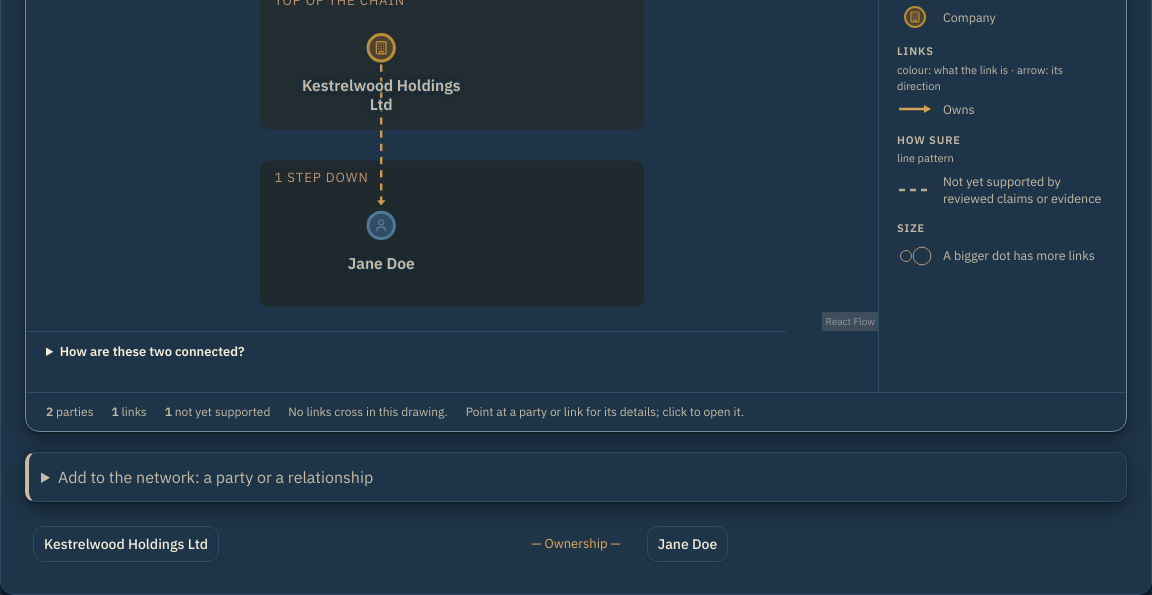
Test case: RelationshipGraphPanel › attaches pool evidence to the opened relationship and keeps the graph's copy of the edge in step
The image size is (1152, 595).
(page scrolled)
Click the text "Ownership": (538, 544) [531, 536, 621, 552]
(page scrolled)
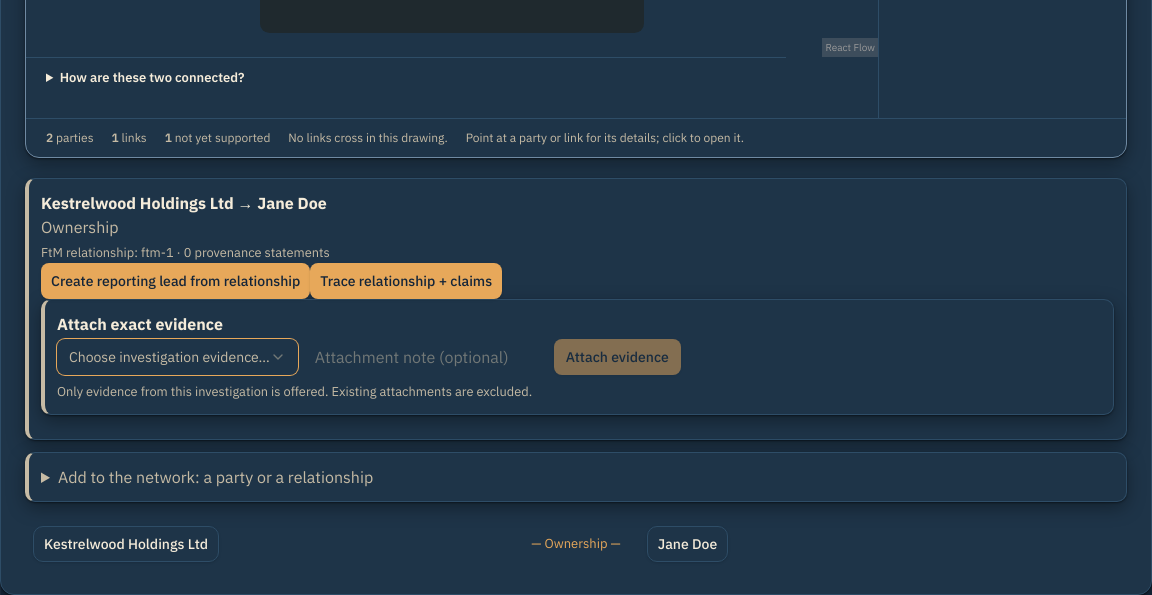
Now the text "Attach exact evidence" is shown, box [57, 314, 223, 334]
Now the button "Attach evidence" is disabled, box [554, 339, 681, 375]
Press Arrowdown
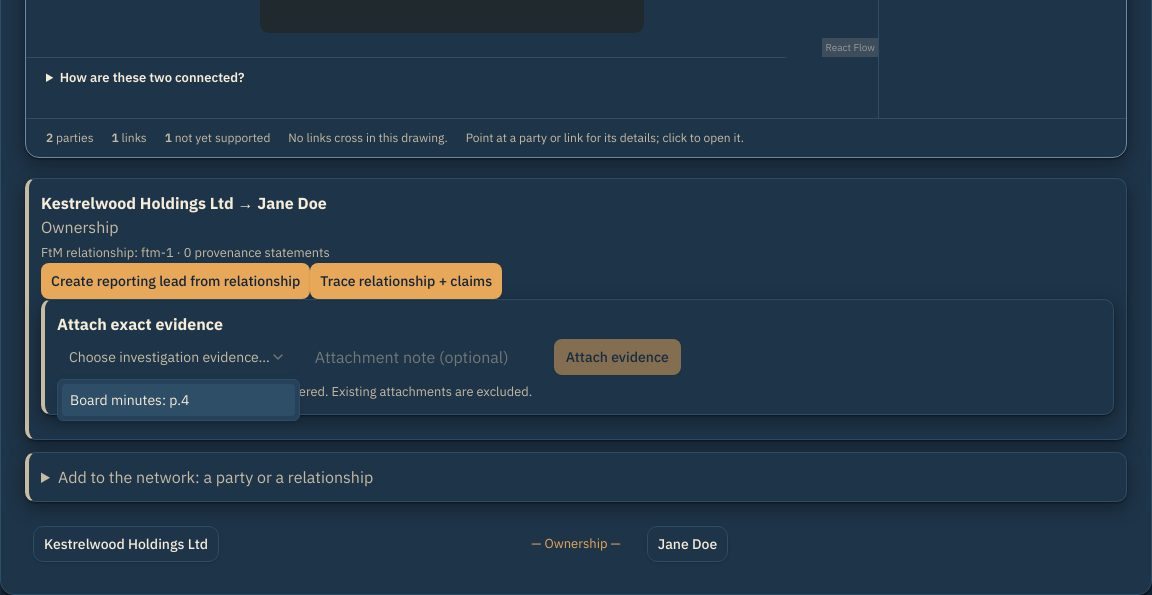
Click the option "Board minutes: p.4": (178, 400) [62, 384, 295, 416]
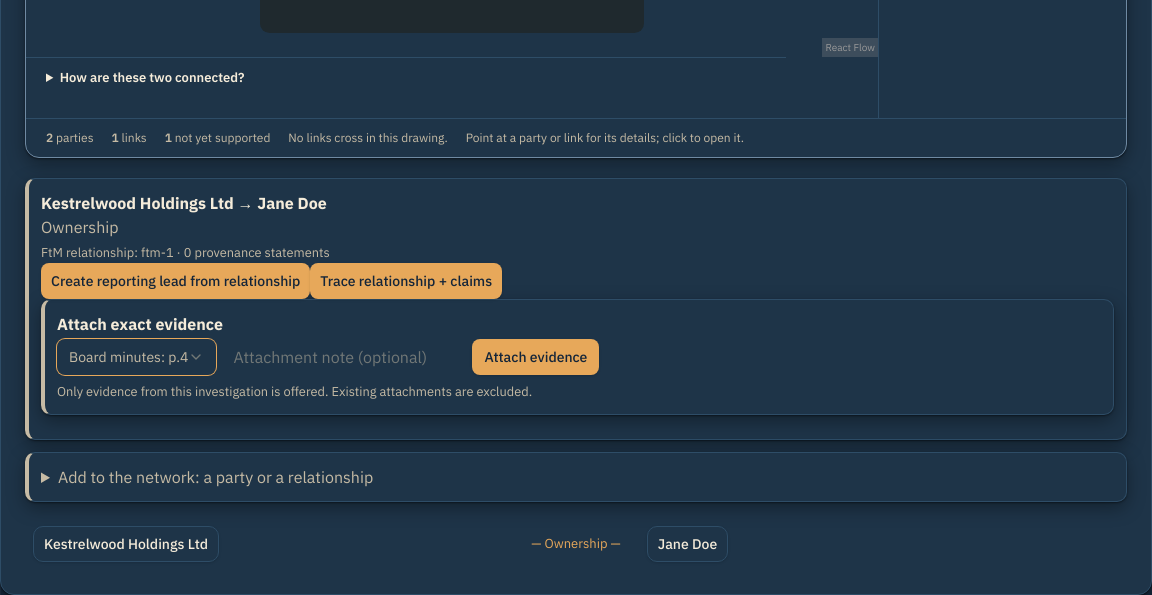
In the field with placeholder "Attachment note (optional)": (344, 357) [224, 336, 464, 378], type "signed copy"
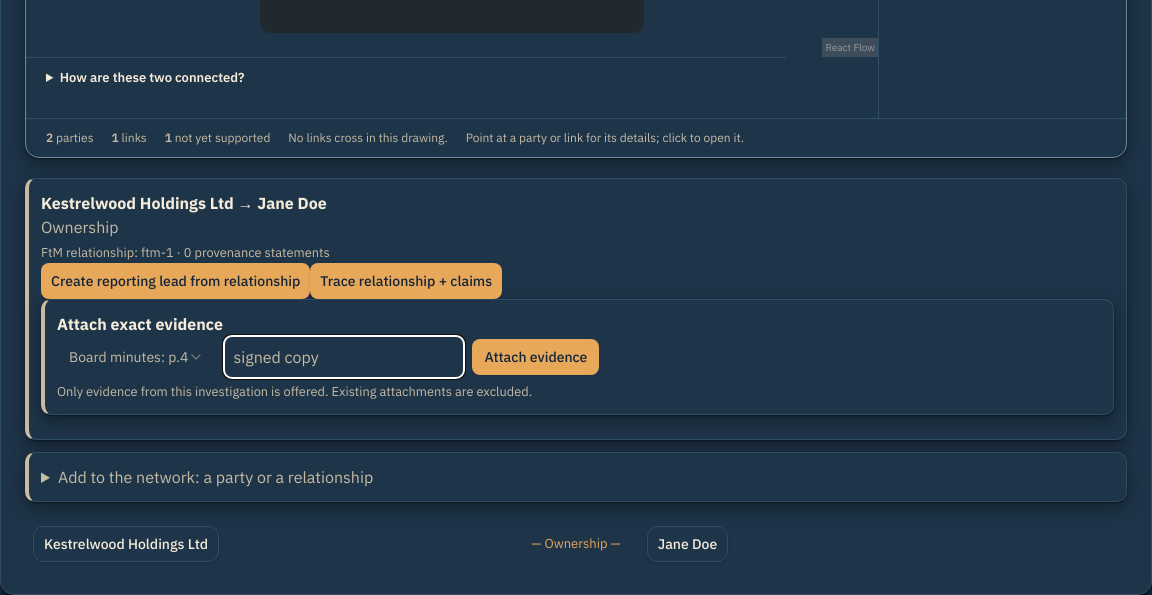
Click the button "Attach evidence": (536, 357) [472, 339, 599, 375]
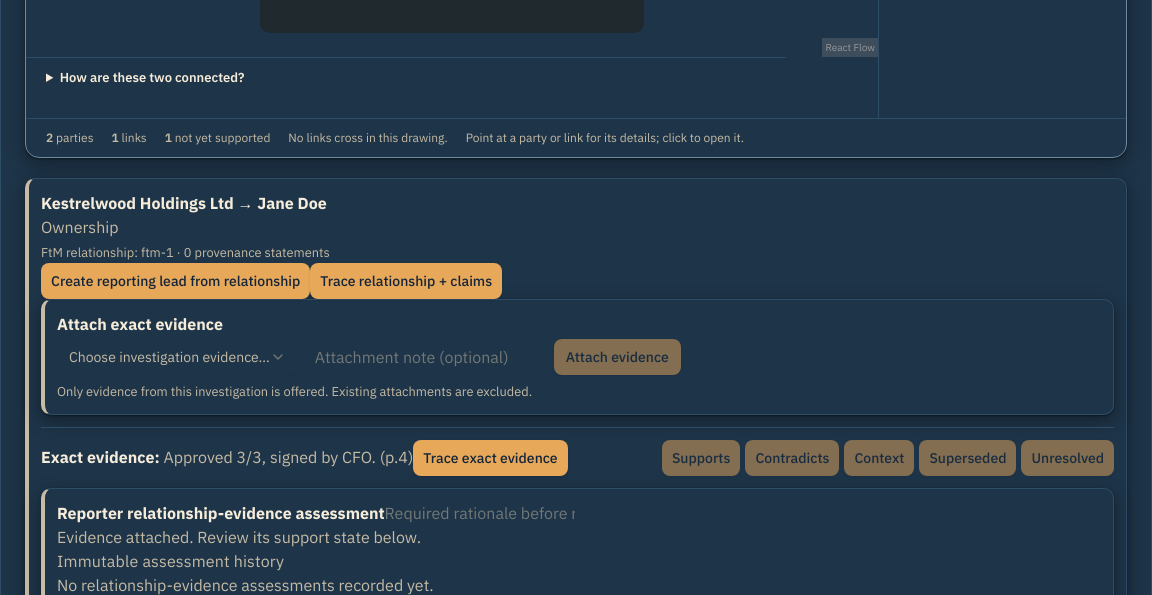
Now the dropdown is shown, box [57, 339, 298, 375]
Now the text "Evidence attached. Review its support state below." is shown, box [57, 527, 421, 547]
Now the text "Approved 3/3, signed by CFO." is shown, box [164, 447, 376, 467]
